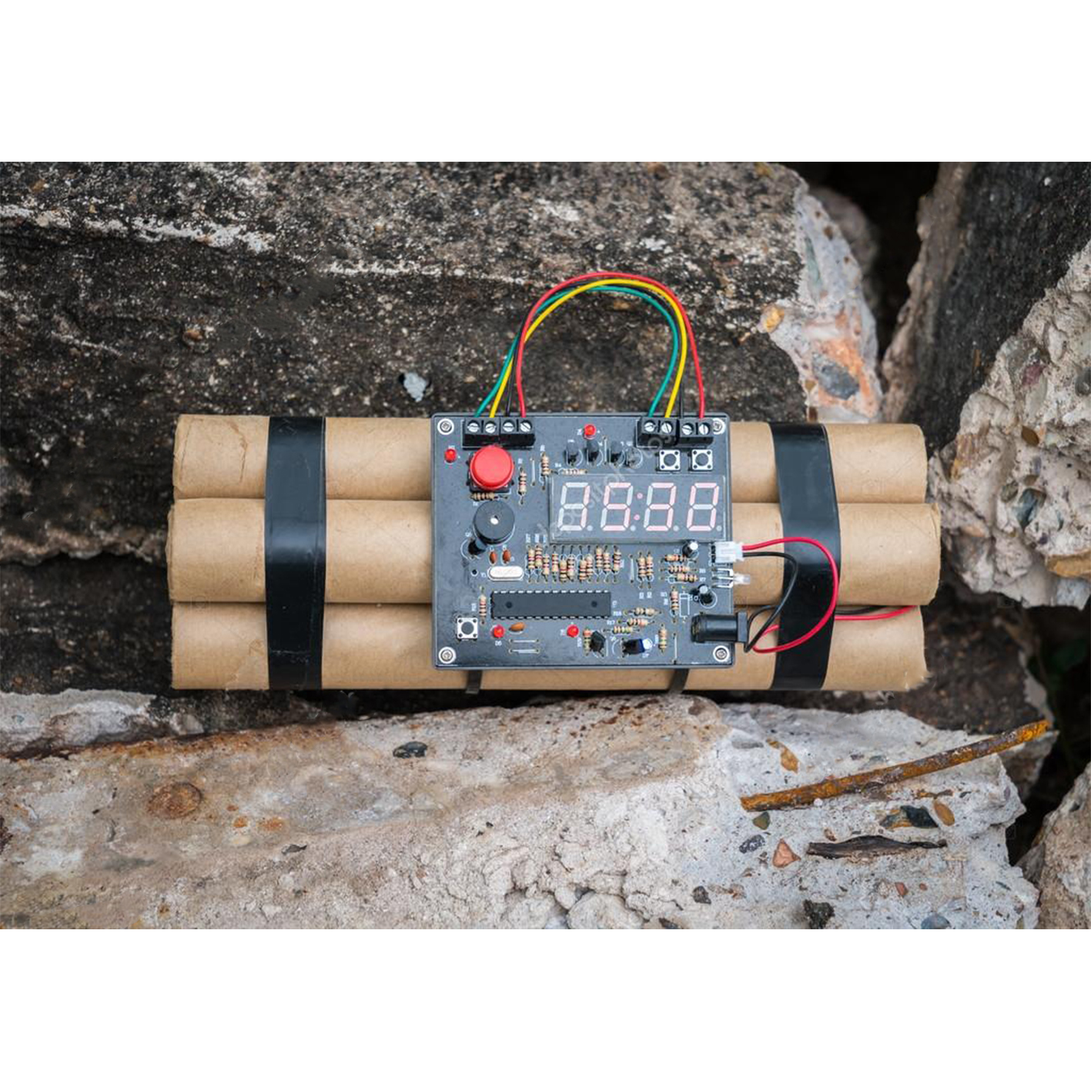mine: (258, 412, 330, 677), (464, 497, 518, 568), (145, 776, 207, 821), (466, 444, 518, 497), (565, 623, 604, 656), (769, 737, 802, 773), (579, 421, 602, 464), (771, 838, 801, 868), (392, 739, 429, 761), (490, 620, 527, 637), (578, 422, 601, 443), (564, 624, 591, 639), (581, 422, 600, 439), (444, 446, 460, 463)
